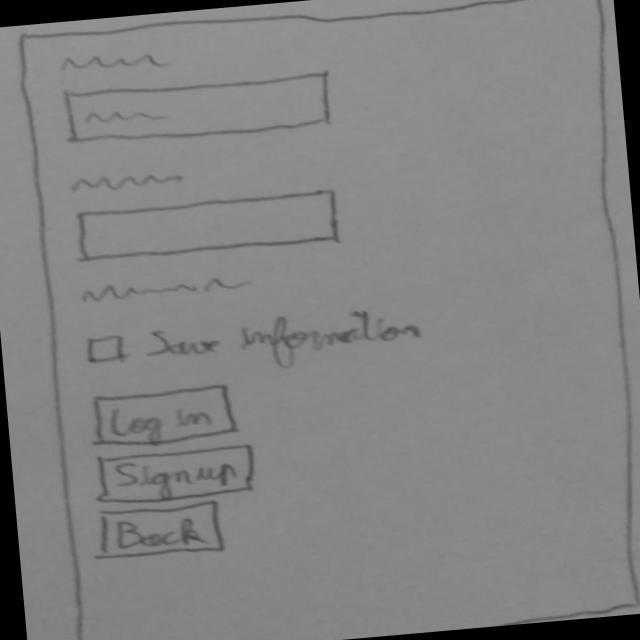button: (92, 442, 266, 510), (89, 380, 251, 452), (90, 501, 232, 565)
checkbox: (82, 297, 443, 385)
container: (10, 1, 640, 640), (72, 185, 355, 272)
input: (61, 67, 343, 150)
text: (77, 264, 249, 312), (58, 43, 186, 82), (65, 163, 203, 197)
